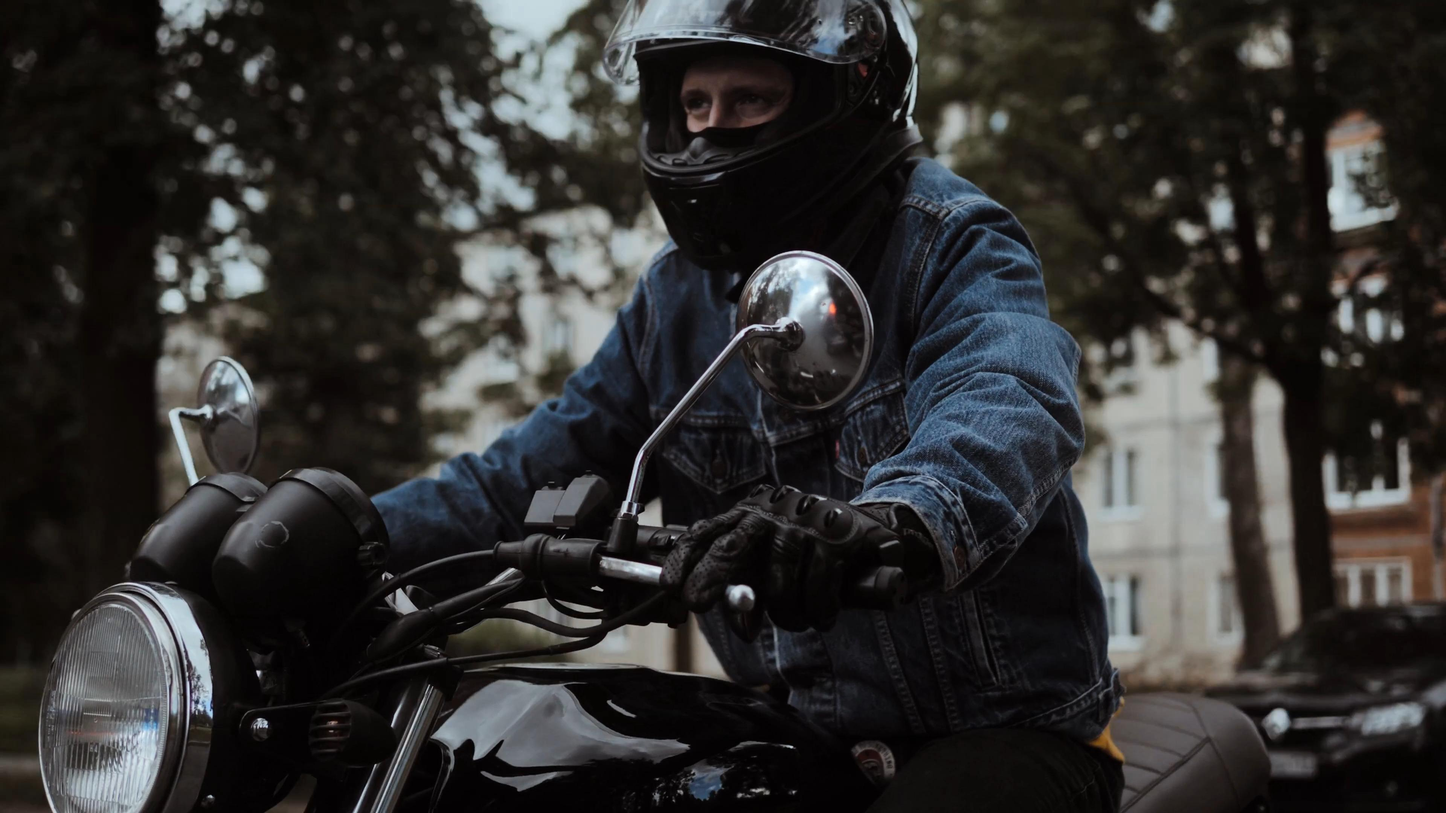driver: (37, 0, 1269, 813)
helmet: (602, 0, 925, 274)
